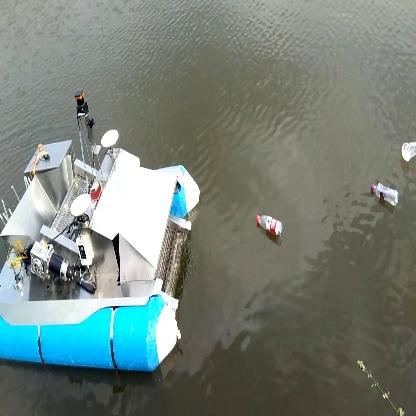bottle: (366, 178, 404, 208), (251, 212, 287, 242)
